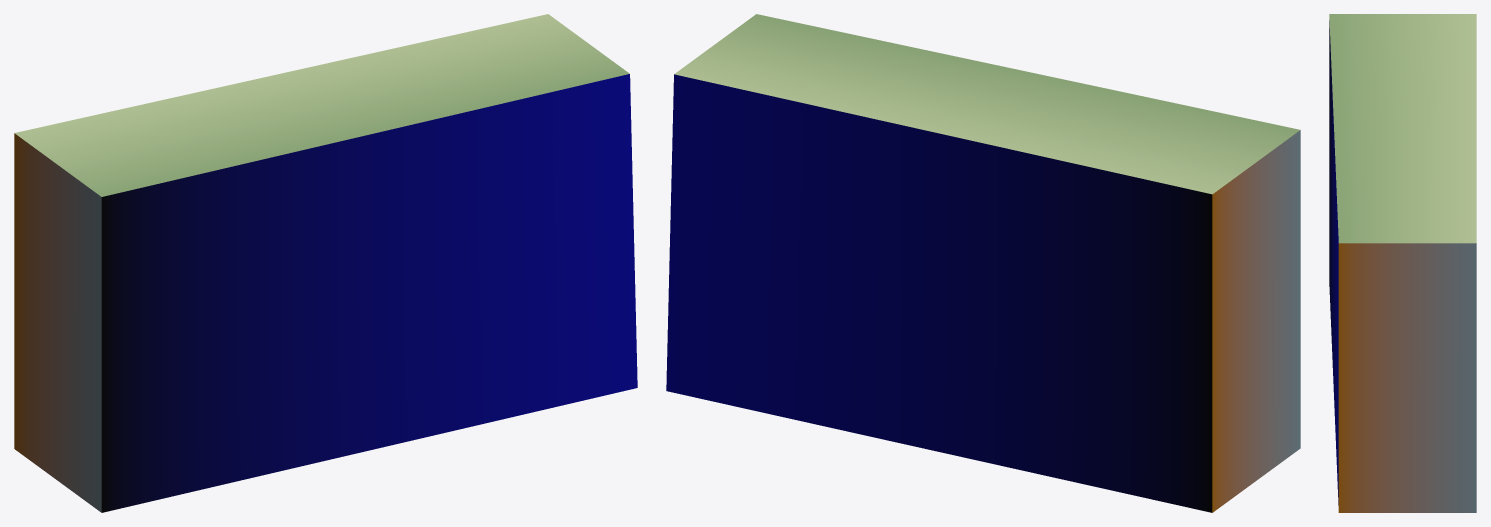
The model's file is Crate_Wood_Long.glb.
3 views of the same model, side by side, from view 1: azimuth 30°, elevation 25°; view 2: azimuth 150°, elevation 25°; view 3: azimuth 270°, elevation 25° (orthographic). The views are drawn at different scales.
Visible parts, largest first — view 1: MeshNode_0; view 2: MeshNode_0; view 3: MeshNode_0.
Part boxes in pixels (left/top/right/bottom): MeshNode_0: left=14, top=14, right=637, bottom=512; MeshNode_0: left=666, top=14, right=1300, bottom=512; MeshNode_0: left=1329, top=14, right=1476, bottom=512.
Bounding box in the file's own units: 2.92 × 1.68 × 0.8153.
